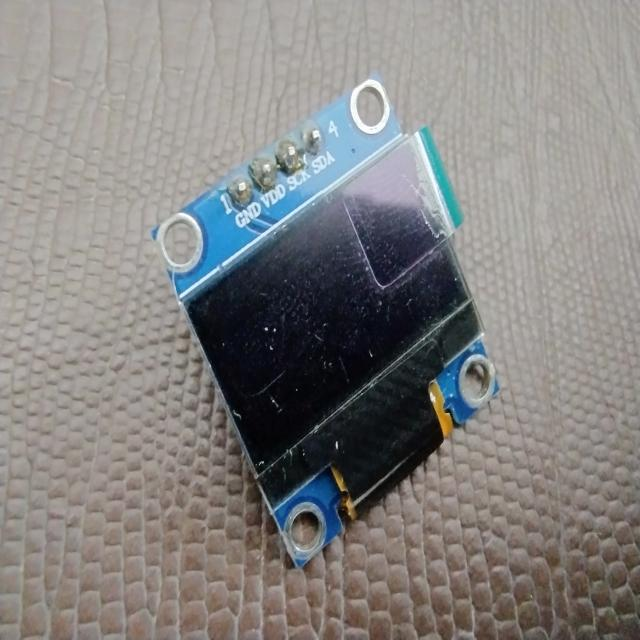oled: (144, 70, 516, 582)
